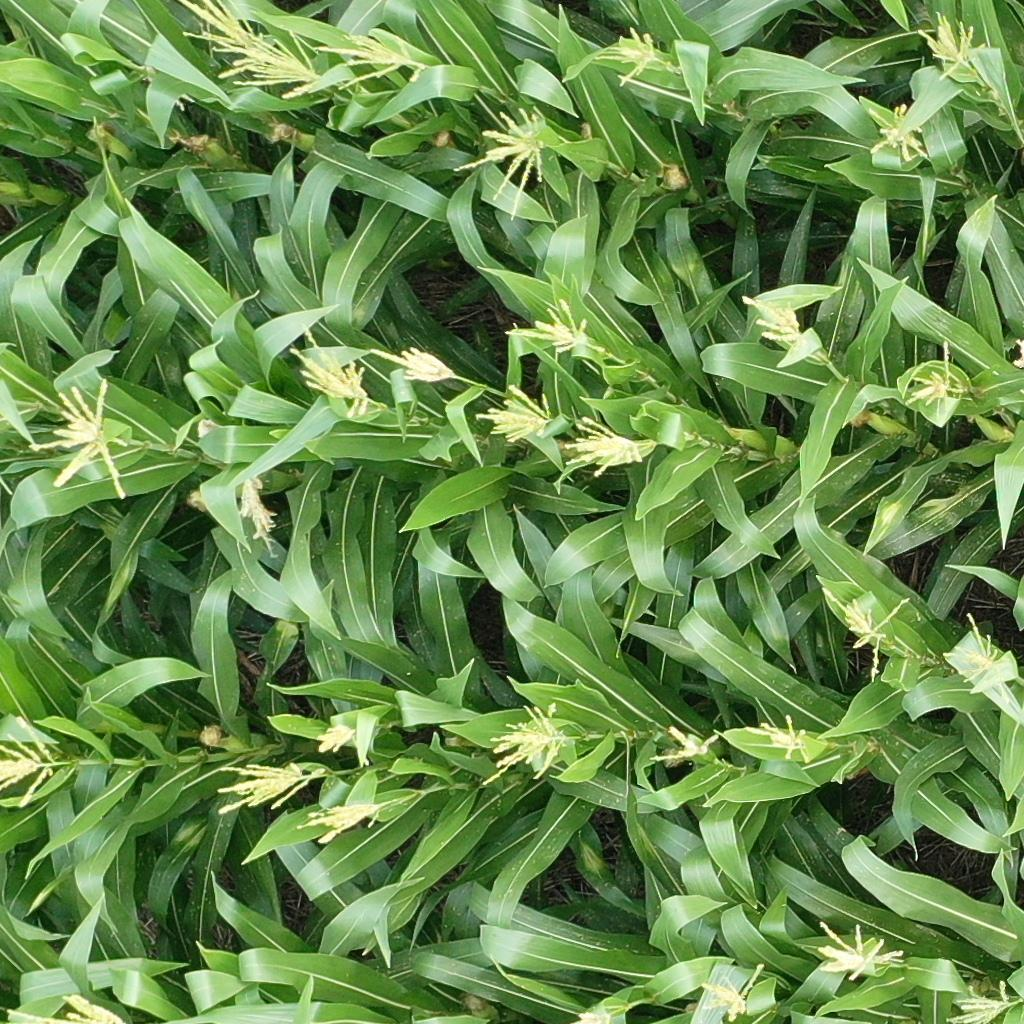Tassel: (27, 376, 137, 502), (449, 105, 552, 222), (821, 581, 911, 678), (286, 324, 373, 420), (485, 700, 575, 788), (314, 27, 427, 94), (940, 609, 1017, 703), (231, 27, 325, 103), (211, 759, 327, 819), (176, 1, 265, 79), (816, 919, 907, 984), (506, 299, 606, 358), (563, 414, 653, 479), (1, 713, 60, 808), (473, 382, 556, 446), (590, 27, 680, 86), (913, 10, 988, 80), (863, 99, 938, 164), (904, 339, 965, 412), (6, 988, 129, 1024), (698, 961, 766, 1020), (368, 342, 459, 386), (744, 711, 814, 766), (941, 978, 1024, 1024), (296, 803, 390, 843), (235, 473, 280, 545), (741, 294, 802, 346), (649, 723, 720, 766), (315, 722, 364, 767), (570, 1007, 620, 1024), (1012, 337, 1024, 371)
